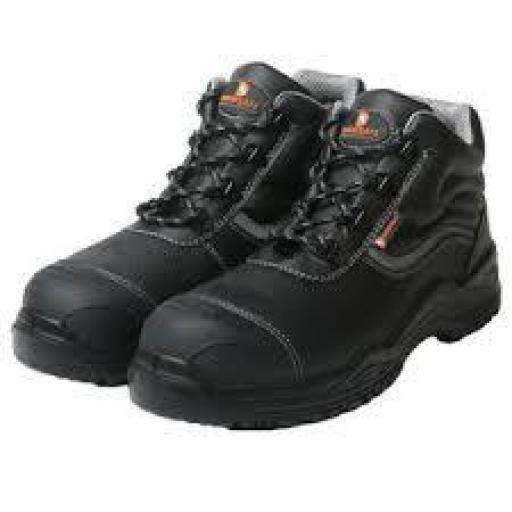safety_boots: (6, 44, 512, 440)
